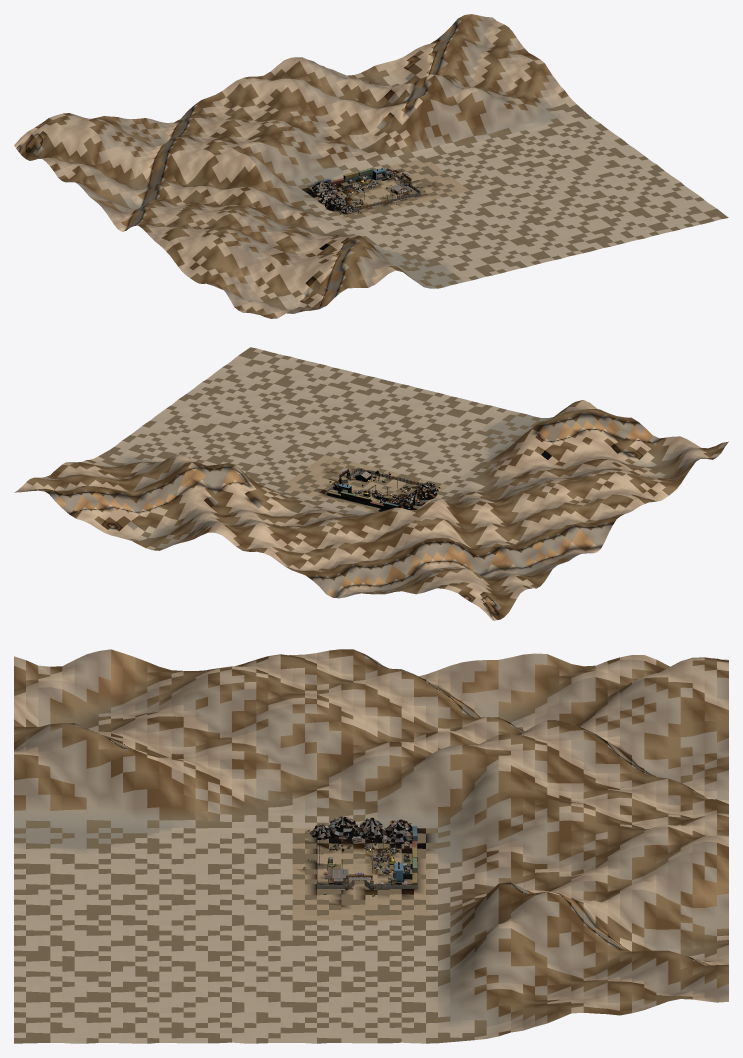
Rendered from junkyard.glb.
3 views of the same model, one above another, from view 1: azimuth 30°, elevation 25°; view 2: azimuth 150°, elevation 25°; view 3: azimuth 270°, elevation 25° (orthographic). The views are drawn at different scales.
Parts seen in each view (by area): view 1: Terrain; view 2: Terrain, Static_Outer; view 3: Terrain, Static_Outer, Static_0_2, Static_2_2.
Boxes of the visible parts, x1,y1,x2,y2 form: Terrain: (14, 14, 728, 318); Terrain: (14, 347, 728, 620); Static_Outer: (329, 468, 440, 506); Terrain: (14, 649, 728, 1043); Static_Outer: (303, 816, 385, 896); Static_0_2: (382, 819, 417, 850); Static_2_2: (369, 857, 417, 888).
Bounding box in the file's own units: 414 × 37.63 × 354.
